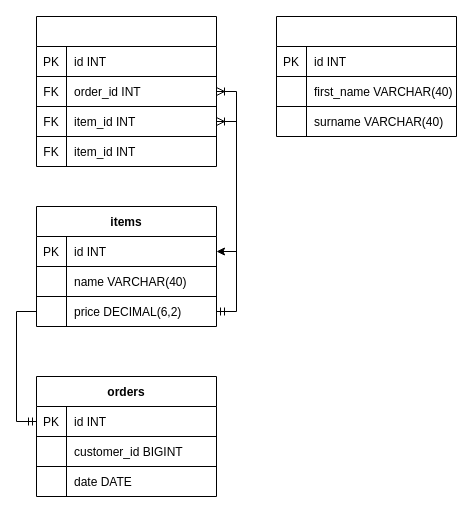
Image size: 473x513. Some labels were removed from this diagram. The shapes that lost their labels are listed below. From the top down, each one's box as (x1, y1, x2, y2) in pixels, then its label:
(36, 16, 216, 166): Orderitems
(276, 16, 456, 136): customers
